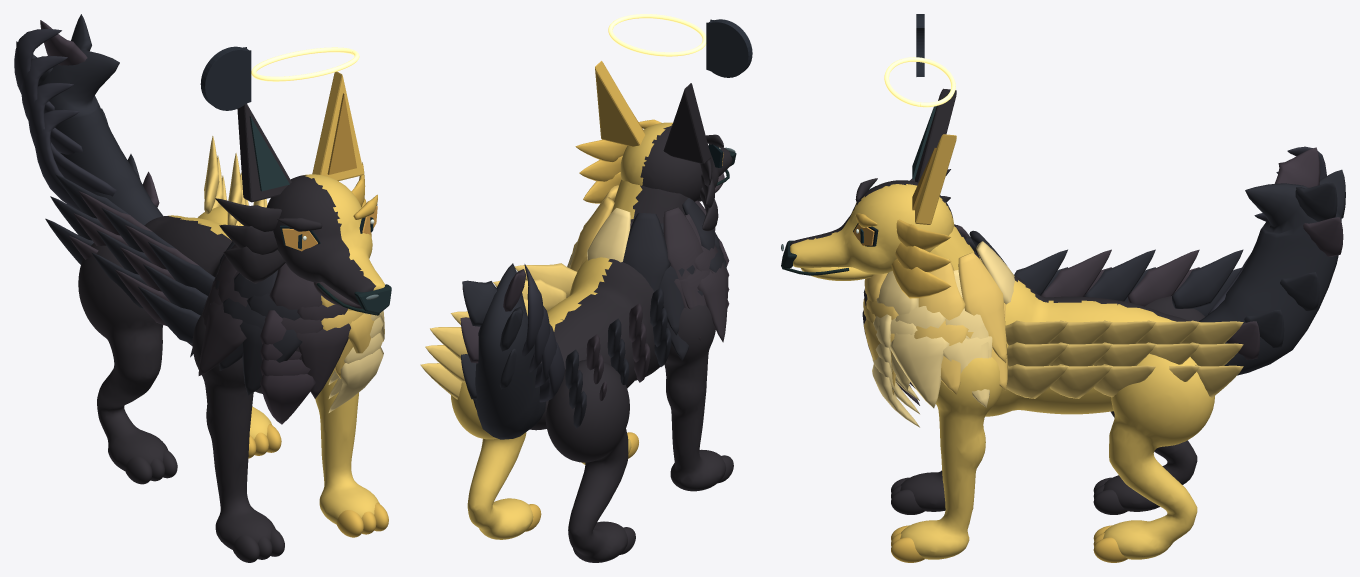
The model's file is eclipsera.glb.
3 views of the same model, side by side, from view 1: azimuth 30°, elevation 25°; view 2: azimuth 150°, elevation 25°; view 3: azimuth 270°, elevation 25° (orthographic). The views are drawn at different scales.
Parts seen in each view (by area): view 1: Sculpted leftLeg, Sculpted skull and tapered muzzle, Sculpted leftArm, Full flowing tail, Sculpted rightArm, Sculpted rib cage, chest and neck, Orbiting dark crescent, Upright sculpted ear.001, Layered flowing neck coat.029, Recurved shadow ribbon.001, Layered flowing neck coat.031, Upright sculpted ear (+47 smaller); view 2: Sculpted leftLeg, Sculpted rib cage, chest and neck, Sculpted leftArm, Full flowing tail, Sculpted rightLeg, Sculpted skull and tapered muzzle, Layered flowing neck coat.006, Upright sculpted ear.001, Orbiting dark crescent, Upright sculpted ear, Layered flowing neck coat.005, Layered flowing neck coat.007 (+27 smaller); view 3: Sculpted rightLeg, Full flowing tail, Sculpted rightArm, Sculpted rib cage, chest and neck, Sculpted skull and tapered muzzle, Layered flowing neck coat.008, Sculpted leftLeg, Layered flowing neck coat.027, Shadow cloak lock.004, Shadow cloak lock.003, Upright sculpted ear.001, Shadow cloak lock.002 (+36 smaller).
Boxes of the visible parts, <box> form: Sculpted leftLeg: <box>78,243,168,470</box>; Sculpted skull and tapered muzzle: <box>266,174,384,305</box>; Sculpted leftArm: <box>192,314,275,549</box>; Full flowing tail: <box>38,50,163,225</box>; Sculpted rightArm: <box>315,369,379,524</box>; Sculpted rib cage, chest and neck: <box>144,215,262,393</box>; Orbiting dark crescent: <box>200,46,251,110</box>; Upright sculpted ear.001: <box>312,71,363,181</box>; Layered flowing neck coat.029: <box>296,323,350,398</box>; Recurved shadow ribbon.001: <box>28,83,116,196</box>; Layered flowing neck coat.031: <box>198,301,246,375</box>; Upright sculpted ear: <box>237,103,291,202</box>; Sculpted leftLeg: <box>545,359,629,562</box>; Sculpted rib cage, chest and neck: <box>530,179,691,430</box>; Sculpted leftArm: <box>664,305,725,491</box>; Full flowing tail: <box>475,263,546,439</box>; Sculpted rightLeg: <box>451,381,533,539</box>; Sculpted skull and tapered muzzle: <box>620,122,732,201</box>; Layered flowing neck coat.006: <box>623,213,670,291</box>; Upright sculpted ear.001: <box>595,61,645,146</box>; Orbiting dark crescent: <box>706,19,752,77</box>; Upright sculpted ear: <box>663,83,710,163</box>; Layered flowing neck coat.005: <box>663,207,703,309</box>; Layered flowing neck coat.007: <box>587,208,630,262</box>; Sculpted rightLeg: <box>1103,353,1214,559</box>; Full flowing tail: <box>1198,183,1341,375</box>; Sculpted rightArm: <box>900,357,1002,559</box>; Sculpted rib cage, chest and neck: <box>930,224,1189,416</box>; Sculpted skull and tapered muzzle: <box>790,180,954,274</box>; Layered flowing neck coat.008: <box>958,252,1006,362</box>; Sculpted leftLeg: <box>1103,296,1204,511</box>; Layered flowing neck coat.027: <box>890,333,949,408</box>; Shadow cloak lock.004: <box>1172,249,1243,308</box>; Shadow cloak lock.003: <box>1128,249,1199,306</box>; Upright sculpted ear.001: <box>915,134,956,224</box>; Shadow cloak lock.002: <box>1084,249,1155,301</box>.
Bounding box in the file's own units: 0.7062 × 1.8 × 1.91.
